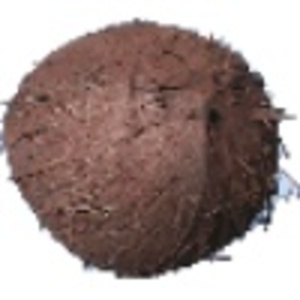coco: (1, 20, 300, 280)
